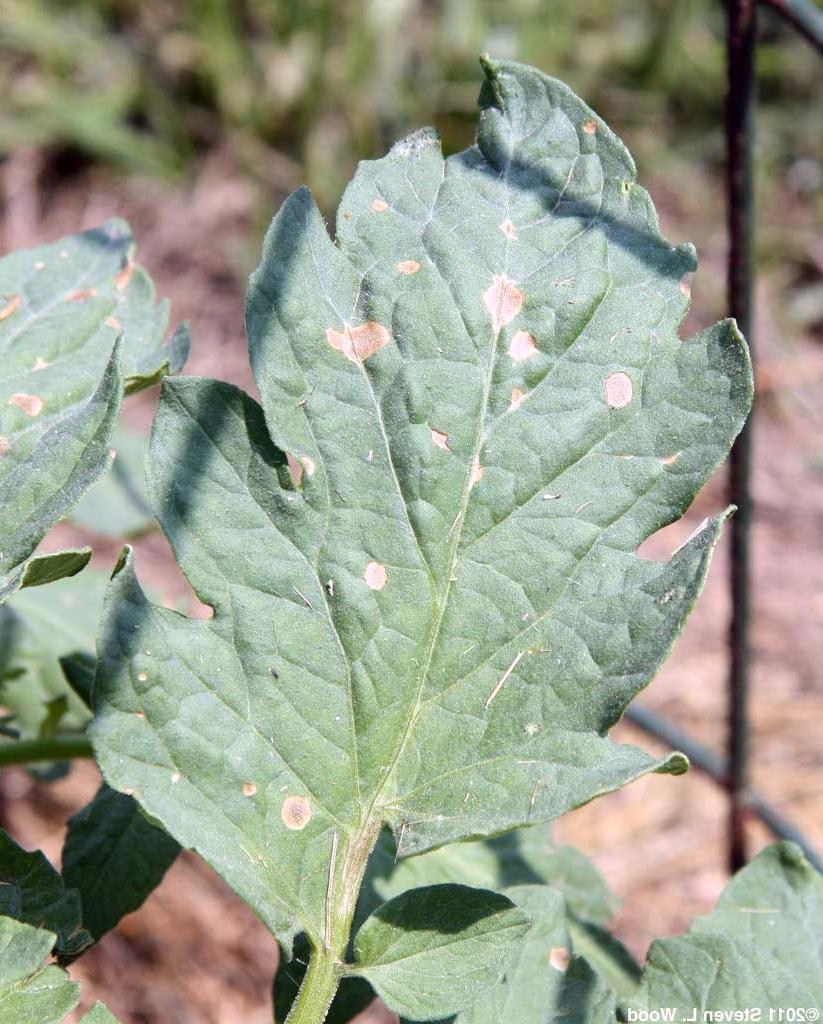Tomato leaf bacterial spot: (96, 34, 759, 961)
